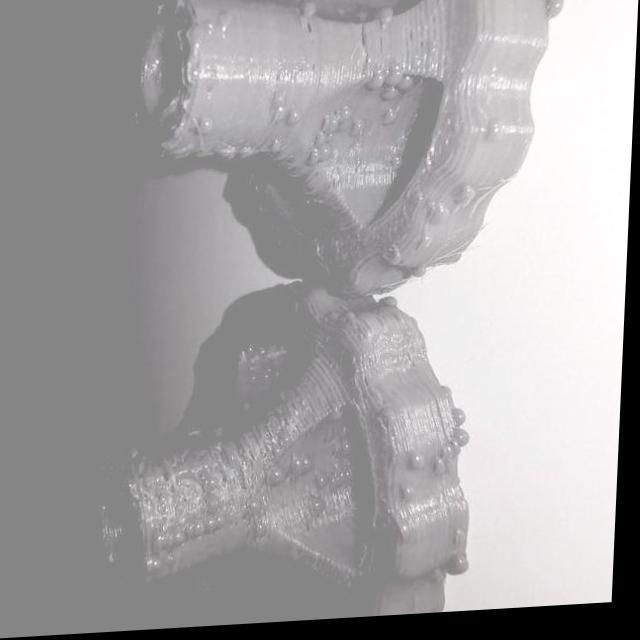zits: (369, 7, 400, 37), (457, 188, 486, 215), (294, 0, 321, 28), (362, 74, 389, 99), (540, 0, 565, 27), (284, 105, 309, 132), (482, 124, 506, 152), (290, 456, 318, 480), (268, 134, 291, 160), (381, 107, 404, 132), (394, 76, 420, 98), (153, 530, 176, 554), (192, 119, 215, 142), (220, 143, 243, 166), (308, 149, 327, 176), (256, 522, 279, 544), (312, 495, 332, 520), (455, 432, 476, 455), (406, 483, 424, 508), (412, 454, 433, 475), (274, 468, 294, 490), (336, 106, 354, 130), (271, 102, 291, 123), (314, 133, 334, 154), (456, 558, 475, 580), (318, 475, 336, 496), (435, 462, 454, 481), (434, 572, 452, 592), (207, 516, 224, 537), (174, 533, 196, 549), (455, 412, 471, 434), (131, 444, 146, 466), (193, 524, 212, 541), (448, 448, 463, 467)
